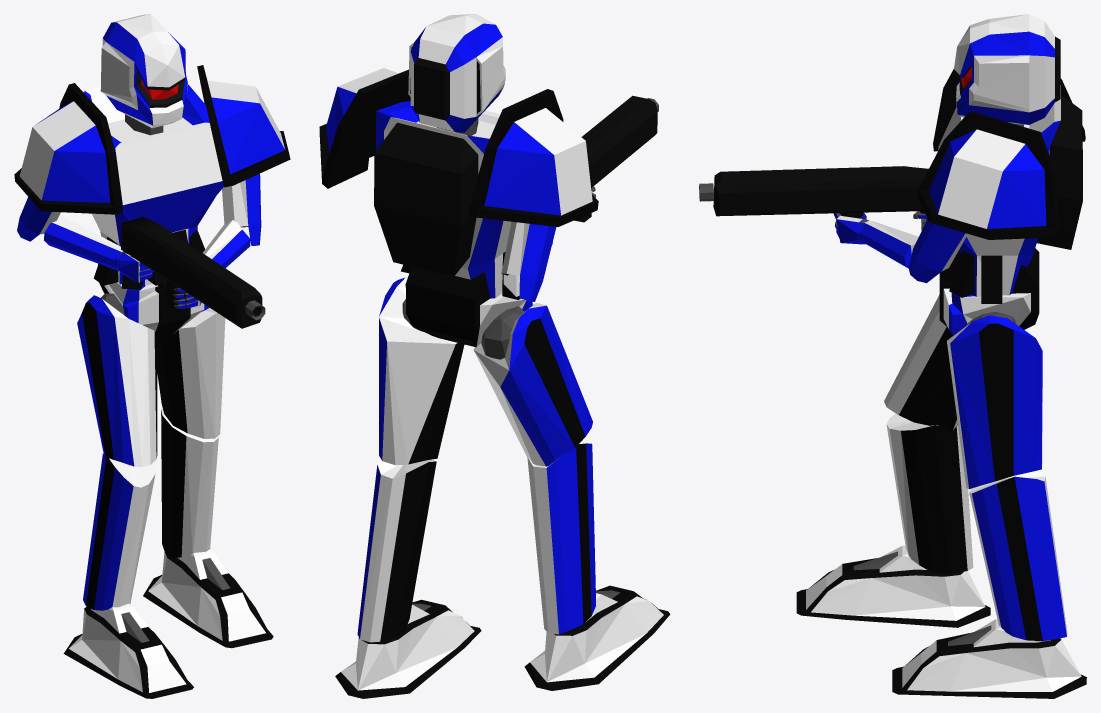
File: robot_animation_000022.obj
The picture shows the model from 3 angles, left to right: view 1: azimuth 30°, elevation 25°; view 2: azimuth 150°, elevation 25°; view 3: azimuth 270°, elevation 25°; orthographic projection. The views are drawn at different scales.
Parts seen in each view (by area): view 1: Chest_plate_Cube.004, R_Thigh_Cube.005, Cube.002_Cube.059, Head_base_Cube.022, R_Shin_Cube.007, R_Foot.002_Cube.035, R_Thigh.002_Cube.027, R_Foot_Cube, Cube_Cube.001, R_Shin.002_Cube.029, Cube_Cube.021, Pelvis_Cube.006 (+5 smaller); view 2: Chest_plate_Cube.004, Cube.002_Cube.059, R_Thigh_Cube.005, R_Thigh.002_Cube.027, R_Shin_Cube.007, R_Shin.002_Cube.029, Head_base_Cube.022, R_Foot_Cube, R_Foot.002_Cube.035, Cube_Cube.021, Pelvis_Cube.006, Cube_Cube.001 (+2 smaller); view 3: Cube_Cube.021, R_Thigh.002_Cube.027, R_Shin.002_Cube.029, R_Foot.002_Cube.035, R_Shin_Cube.007, R_Foot_Cube, Head_base_Cube.022, Cube_Cube.001, Chest_plate_Cube.004, R_Thigh_Cube.005, Pelvis_Cube.006, L_Arm_Cube.014 (+3 smaller).
Part boxes in pixels (<box>): Chest_plate_Cube.004: <box>84,84,223,289</box>; R_Thigh_Cube.005: <box>77,295,157,466</box>; Cube.002_Cube.059: <box>14,83,122,214</box>; Head_base_Cube.022: <box>100,14,187,128</box>; R_Shin_Cube.007: <box>83,453,156,610</box>; R_Foot.002_Cube.035: <box>143,549,273,648</box>; R_Thigh.002_Cube.027: <box>157,308,225,438</box>; R_Foot_Cube: <box>63,603,193,698</box>; Cube_Cube.001: <box>121,217,265,328</box>; R_Shin.002_Cube.029: <box>161,409,218,558</box>; Cube_Cube.021: <box>197,65,290,187</box>; Pelvis_Cube.006: <box>98,263,209,338</box>; Chest_plate_Cube.004: <box>374,101,520,299</box>; Cube.002_Cube.059: <box>468,89,598,226</box>; R_Thigh_Cube.005: <box>473,303,592,466</box>; R_Thigh.002_Cube.027: <box>379,277,464,465</box>; R_Shin_Cube.007: <box>527,443,595,634</box>; R_Shin.002_Cube.029: <box>357,456,436,642</box>; Head_base_Cube.022: <box>408,14,505,132</box>; R_Foot_Cube: <box>524,585,670,690</box>; R_Foot.002_Cube.035: <box>335,599,481,698</box>; Cube_Cube.021: <box>319,68,410,188</box>; Pelvis_Cube.006: <box>405,267,532,347</box>; Cube_Cube.001: <box>574,95,658,222</box>; Cube_Cube.021: <box>917,111,1059,239</box>; R_Thigh.002_Cube.027: <box>947,315,1042,489</box>; R_Shin.002_Cube.029: <box>969,470,1067,641</box>; R_Foot.002_Cube.035: <box>892,619,1086,698</box>; R_Shin_Cube.007: <box>886,413,973,573</box>; R_Foot_Cube: <box>796,545,990,627</box>; Head_base_Cube.022: <box>954,14,1060,124</box>; Cube_Cube.001: <box>699,166,928,220</box>; Chest_plate_Cube.004: <box>938,85,1082,303</box>; R_Thigh_Cube.005: <box>884,294,957,430</box>; Pelvis_Cube.006: <box>939,248,1039,334</box>; L_Arm_Cube.014: <box>908,219,967,283</box>.
Size of the model in its own units: 1.32 by 3.03 by 1.69.
